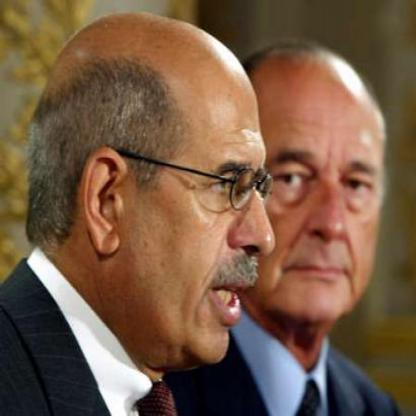face: (178, 59, 325, 416), (101, 71, 240, 416)
